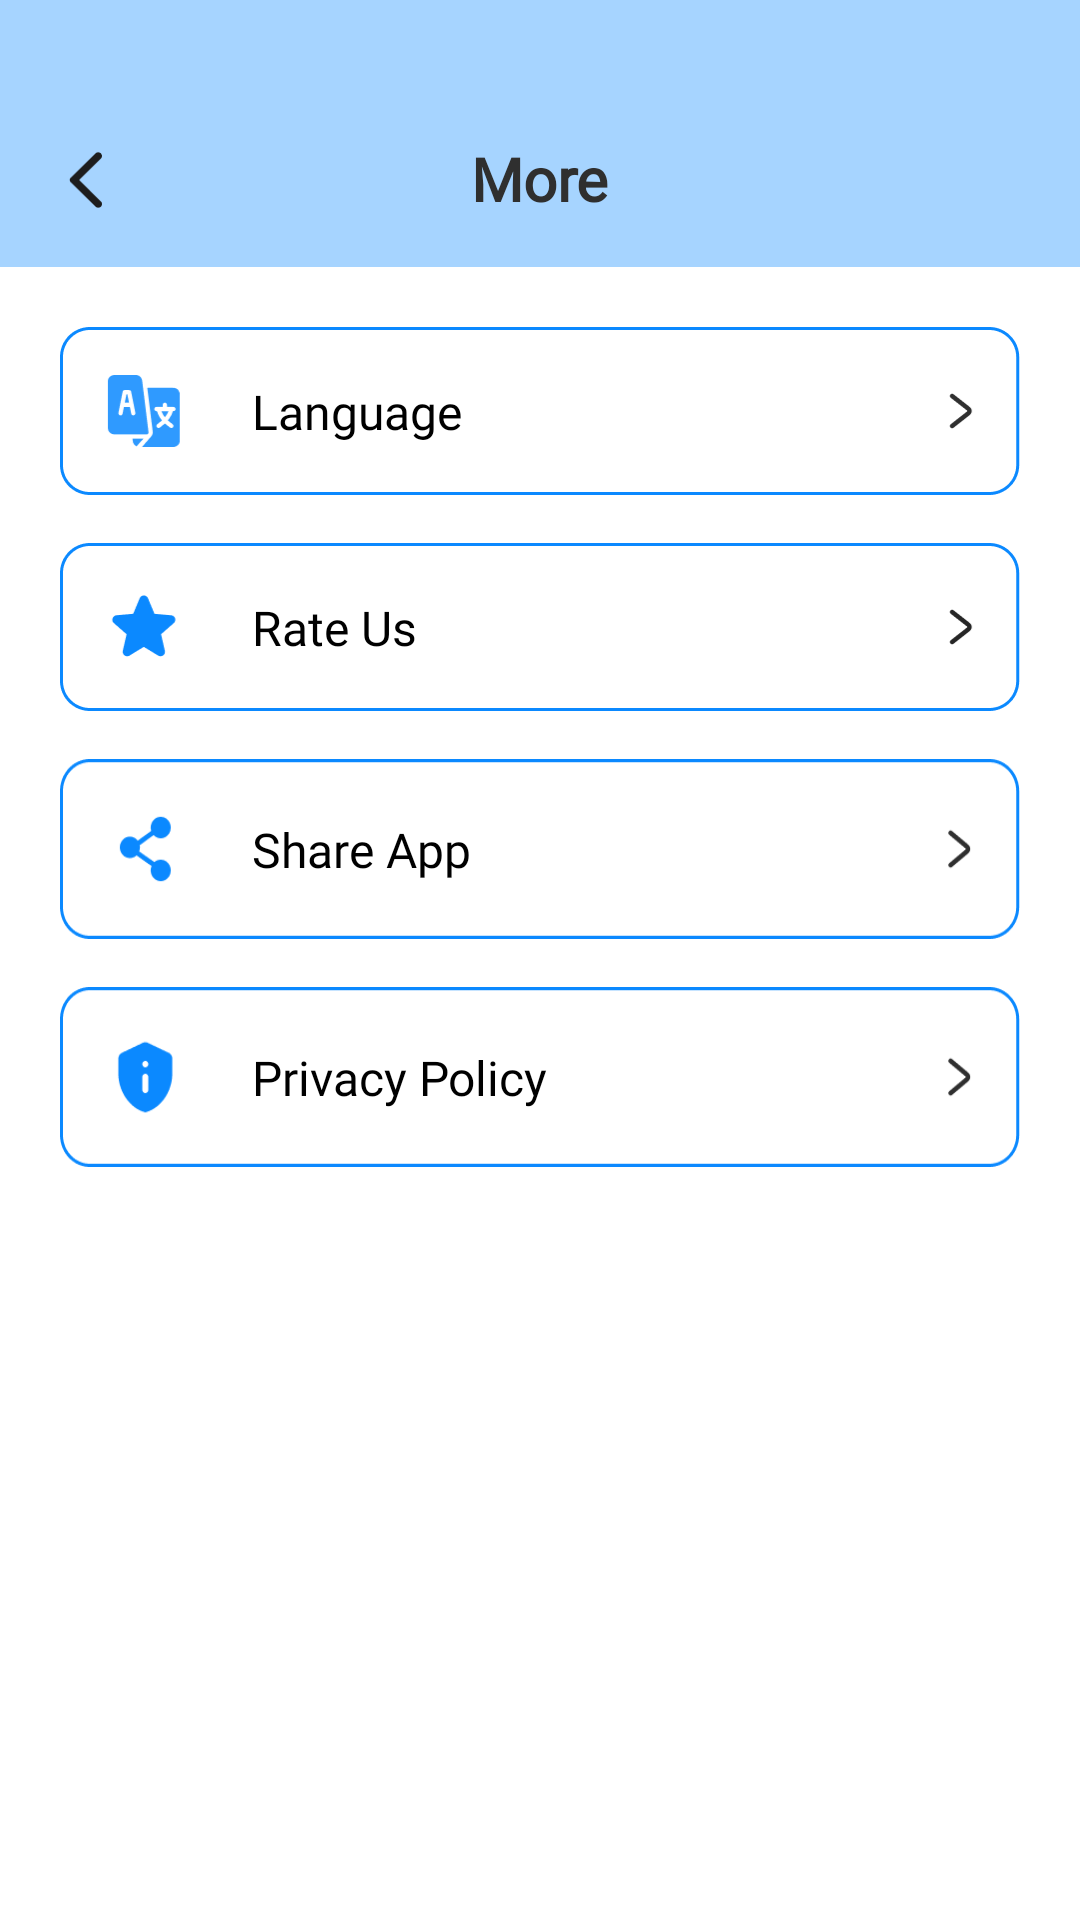

Icon bounding boxes for this 1080*1920 phone screenshot, format (x1, y1, x2, y2):
arrowback addfakecall: (69, 152, 102, 208)
